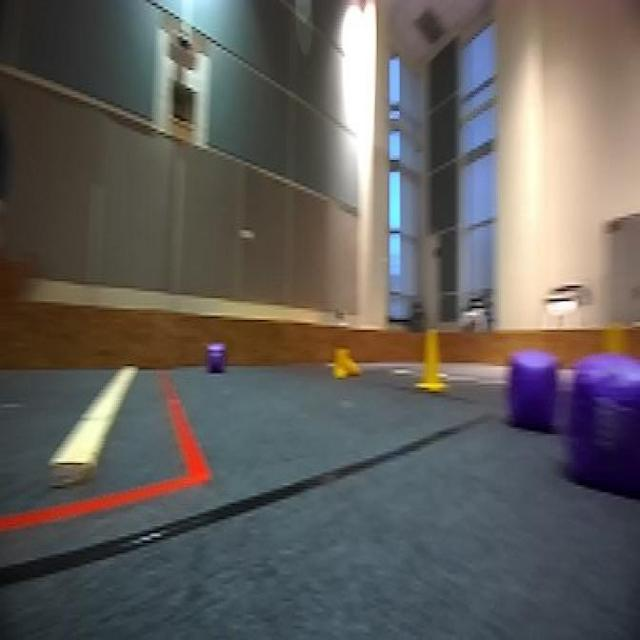frc_cone: (415, 325, 450, 395), (328, 344, 363, 383)
frc_cube: (563, 354, 639, 494), (509, 359, 556, 429), (204, 342, 226, 378)
